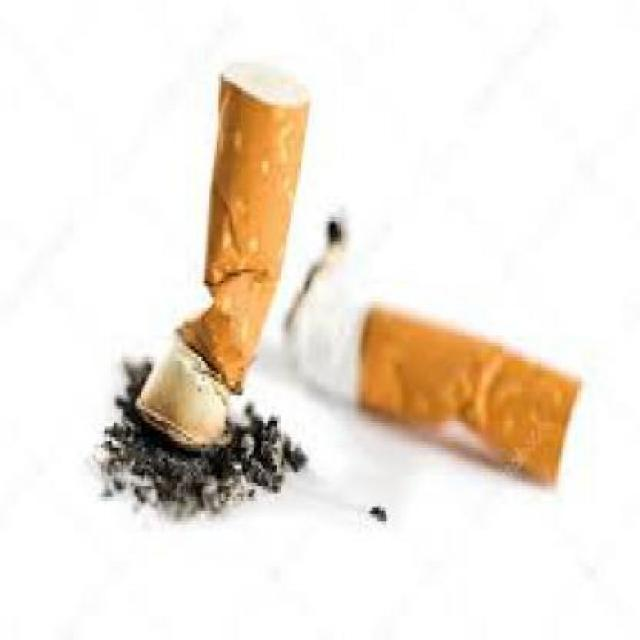cigarette: (102, 70, 333, 452), (293, 227, 596, 507)
